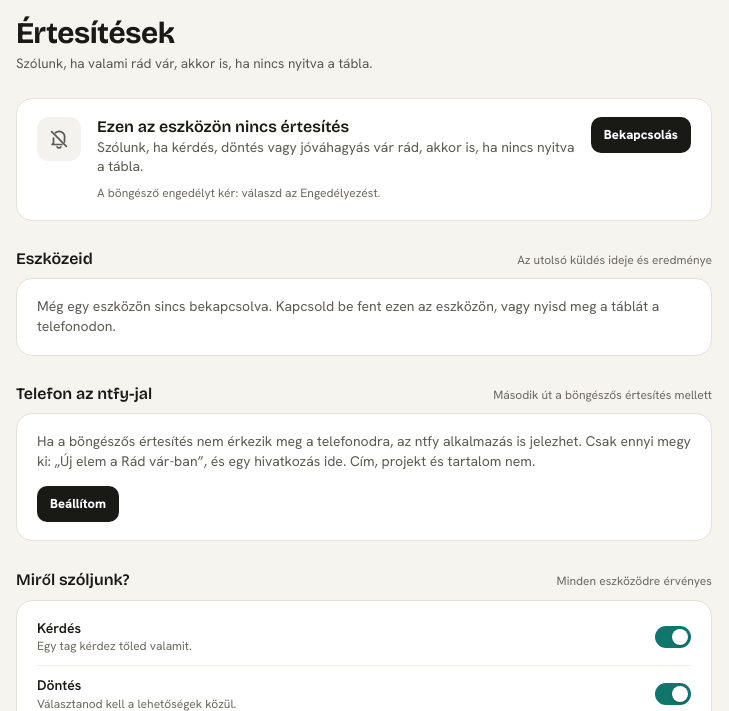
Scenario: this device › shows an enable failure on the card and keeps it off
The width and height of the screenshot is (729, 711).
Click the button "Bekapcsolás".
click(641, 135)  # box left=591, top=117, right=691, bottom=153
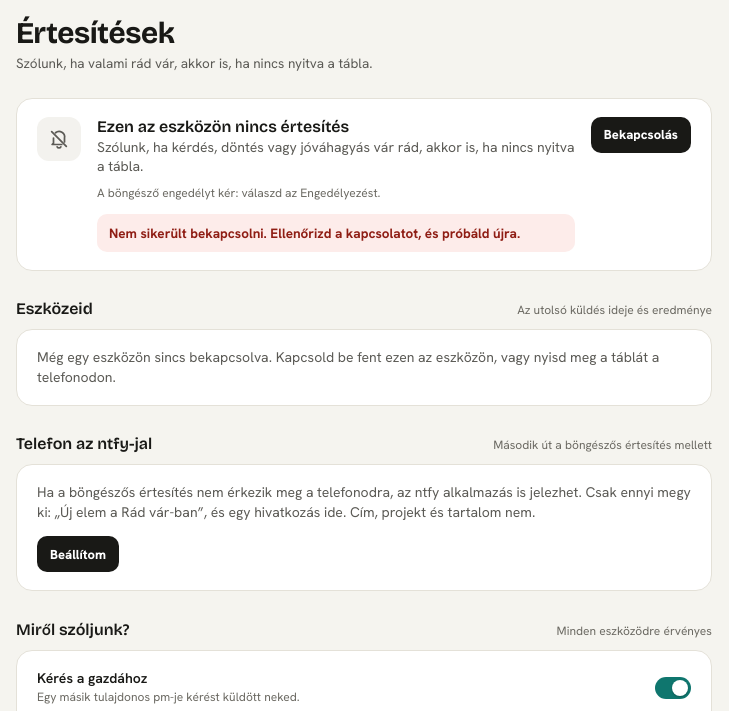
Expected: the text "Ezen az eszközön nincs értesítés" is shown, left=97, top=117, right=349, bottom=136
Now the text "Nem sikerült bekapcsolni. Ellenőrizd a kapcsolatot, és próbáld újra." is shown, box left=97, top=214, right=575, bottom=252
